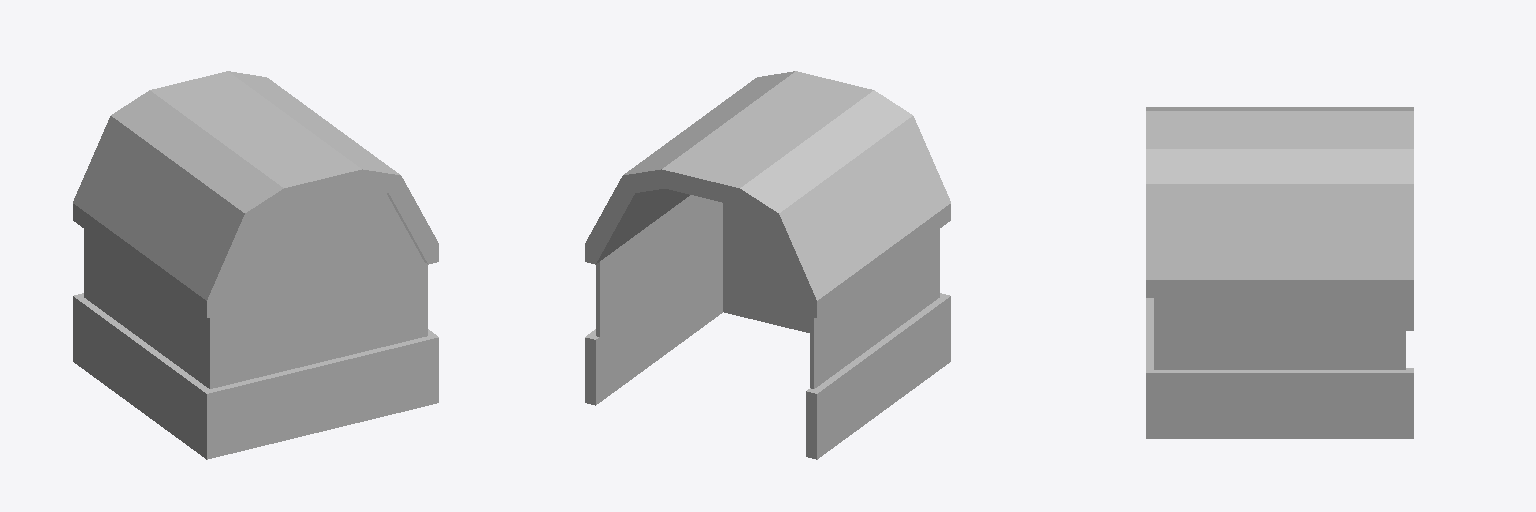
File: buildingCorridorOpenEnd.obj
3 views of the same model, side by side, from view 1: azimuth 30°, elevation 25°; view 2: azimuth 150°, elevation 25°; view 3: azimuth 270°, elevation 25° (orthographic).
Parts seen in each view (by area): view 1: buildingCorridorOpenEnd; view 2: buildingCorridorOpenEnd; view 3: buildingCorridorOpenEnd.
Boxes of the visible parts, x1,y1,x2,y2 form: buildingCorridorOpenEnd: [73, 71, 438, 459]; buildingCorridorOpenEnd: [585, 71, 950, 459]; buildingCorridorOpenEnd: [1146, 107, 1413, 438].
Size of the model in its own units: 10 by 10.37 by 10.